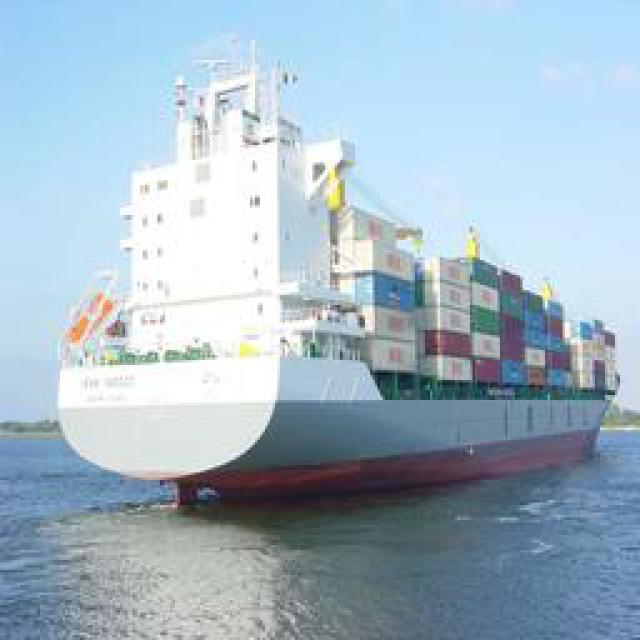Ship: (46, 42, 614, 512)
